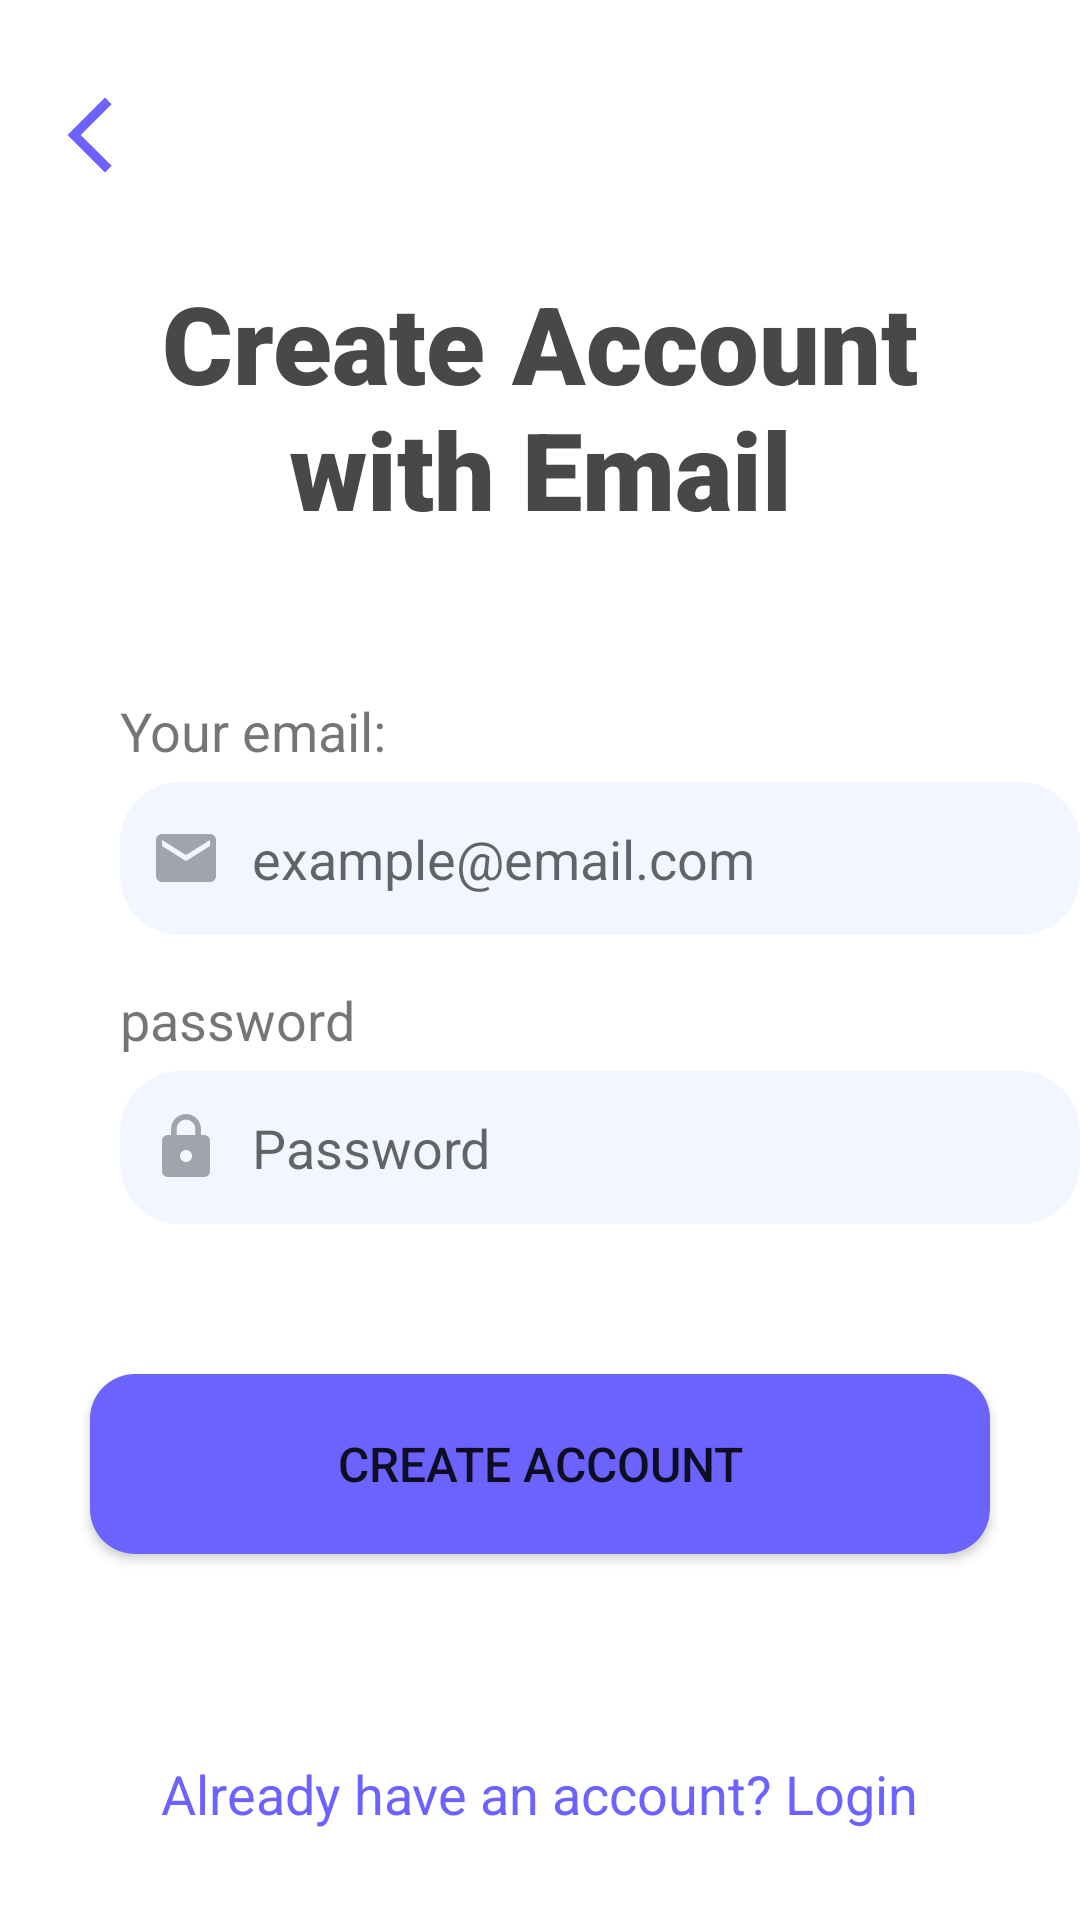

Icon click points for this 1080 × 1920 phone screenshot, format [x,y]:
arrow back: [90,135]
